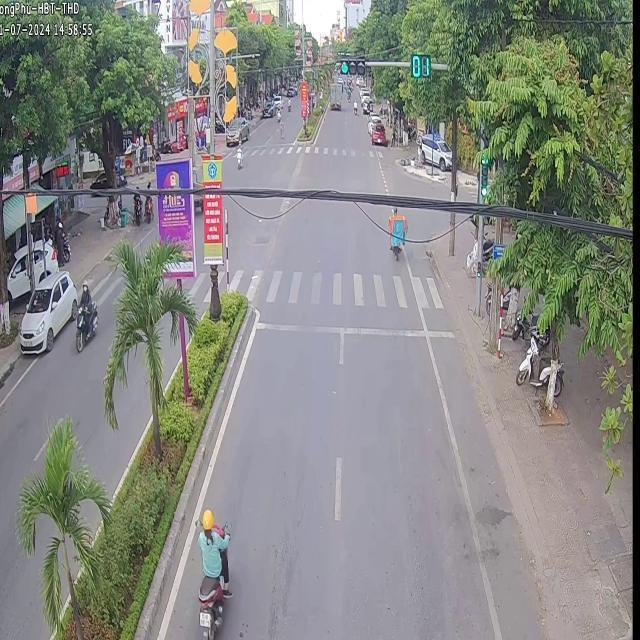green_light: (337, 54, 364, 74), (478, 154, 487, 199)
motobike: (196, 529, 228, 638), (387, 205, 406, 258)
stop_line: (255, 321, 453, 337)
